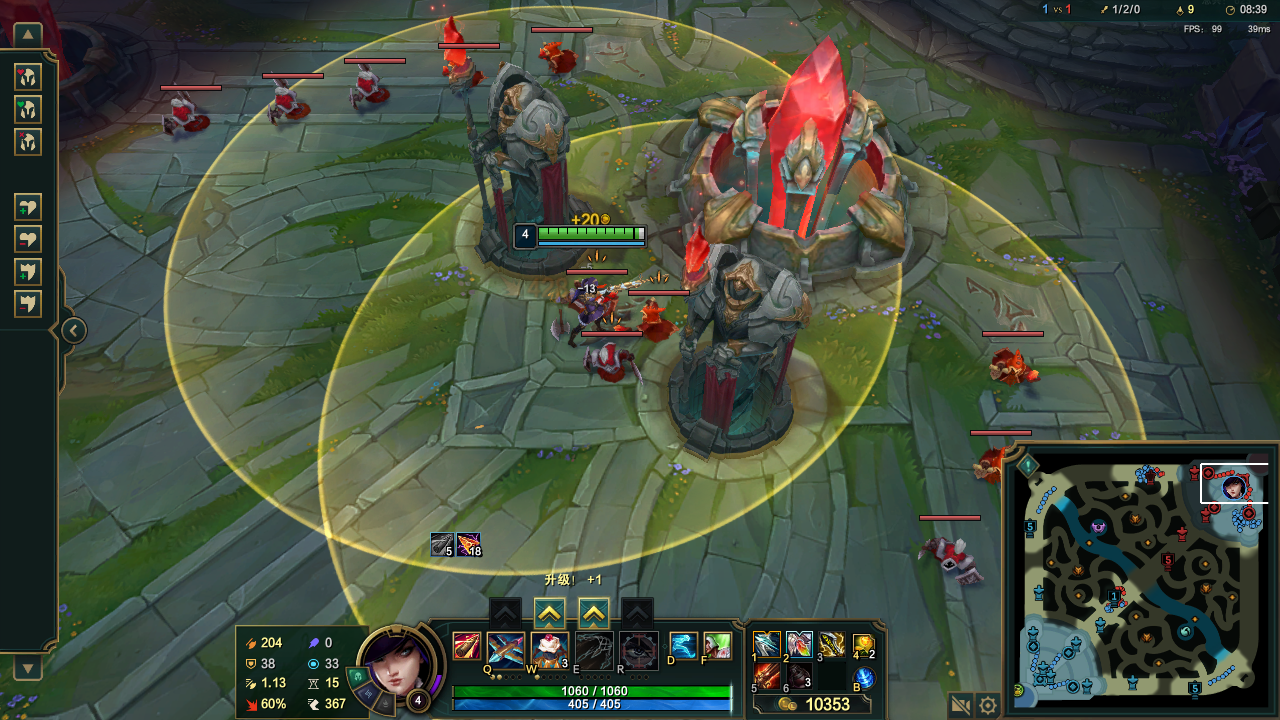DFDSJ: (677, 57, 917, 254)
DFFYT: (444, 61, 594, 269), (656, 244, 795, 449)
